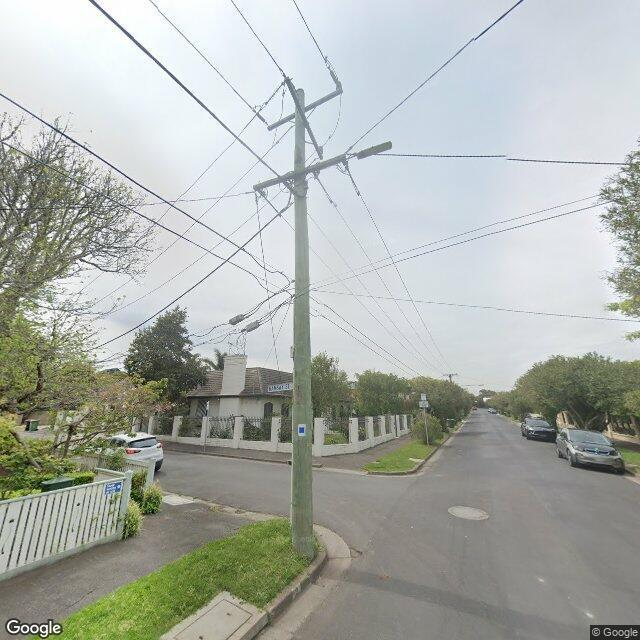HV-transmission: (252, 57, 341, 125)
crossarm: (253, 154, 346, 190), (267, 88, 343, 130), (284, 77, 322, 160), (443, 373, 457, 376)
streetlight: (346, 141, 392, 160)
timber-pole: (292, 88, 314, 562), (450, 374, 452, 383)
